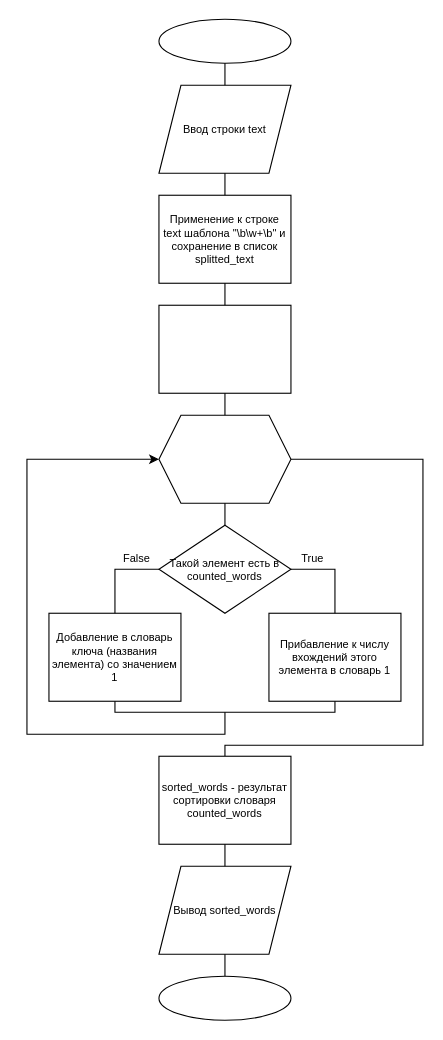
Image size: 443x1040. Some labels were removed from this diagram. The centre of each missing label's shape, as x and y in pixels:
"Конец" goes at pixel 224 997.
"Начало" goes at pixel 224 40.
"Перебор элементов из splitted_text" goes at pixel 224 458.
"Словарь counted_words" goes at pixel 224 348.
